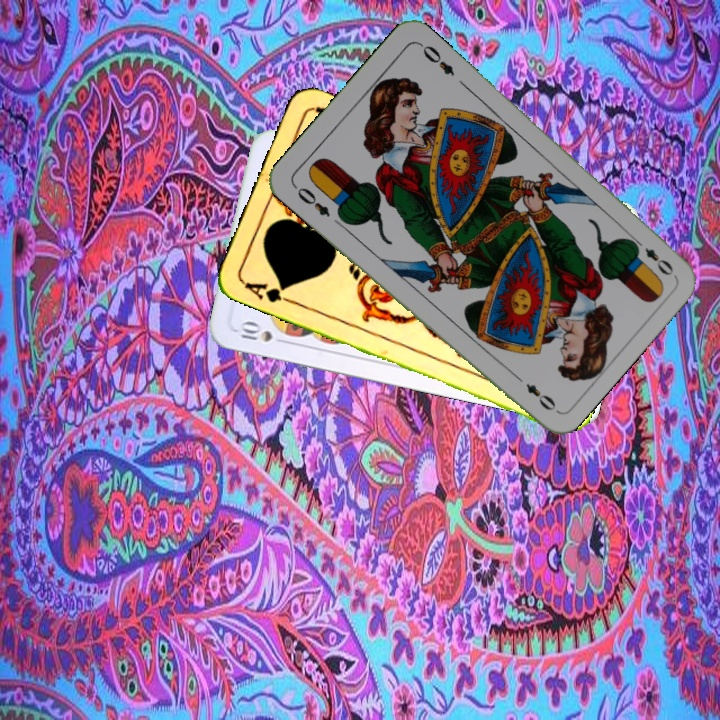EO: (628, 234, 677, 279), (289, 181, 333, 220)
GA: (240, 278, 297, 307)
S10: (233, 318, 291, 347)
